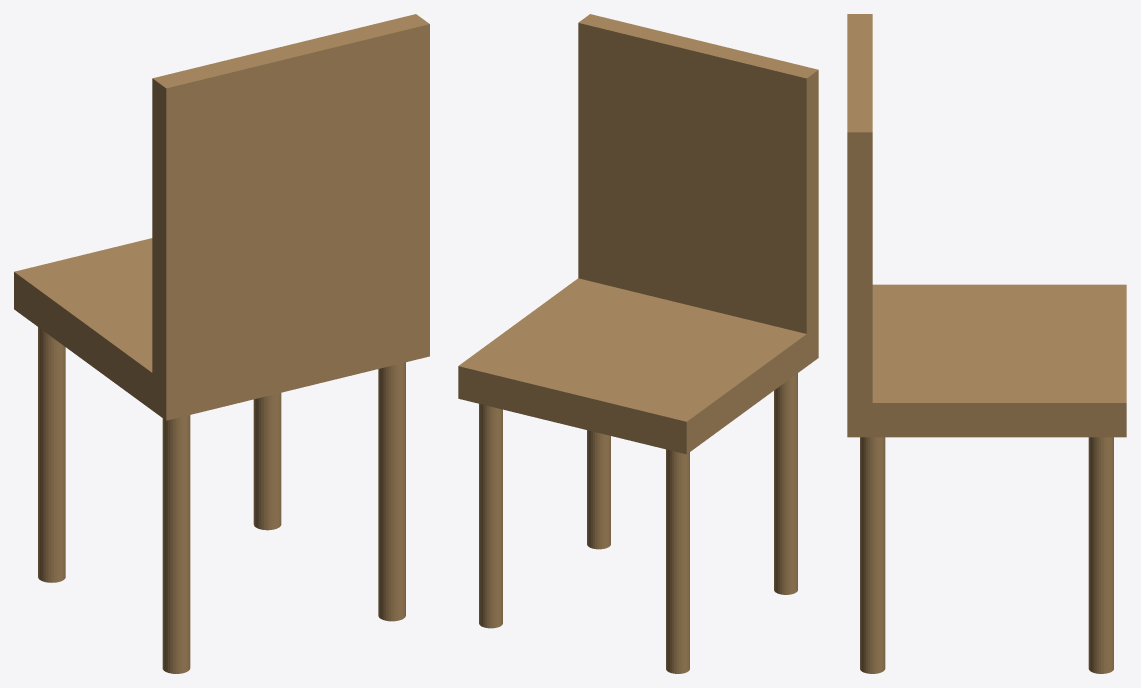
The model's file is furn_chair_wood_01.glb.
3 views of the same model, side by side, from view 1: azimuth 30°, elevation 25°; view 2: azimuth 150°, elevation 25°; view 3: azimuth 270°, elevation 25° (orthographic). The views are drawn at different scales.
Visible parts, largest first — view 1: furn_chair_wood_01; view 2: furn_chair_wood_01; view 3: furn_chair_wood_01.
Boxes of the visible parts, x1,y1,x2,y2 form: furn_chair_wood_01: (14, 14, 429, 673); furn_chair_wood_01: (458, 14, 818, 673); furn_chair_wood_01: (847, 14, 1126, 673).
Size of the model in its own units: 0.44 by 0.95 by 0.44.
